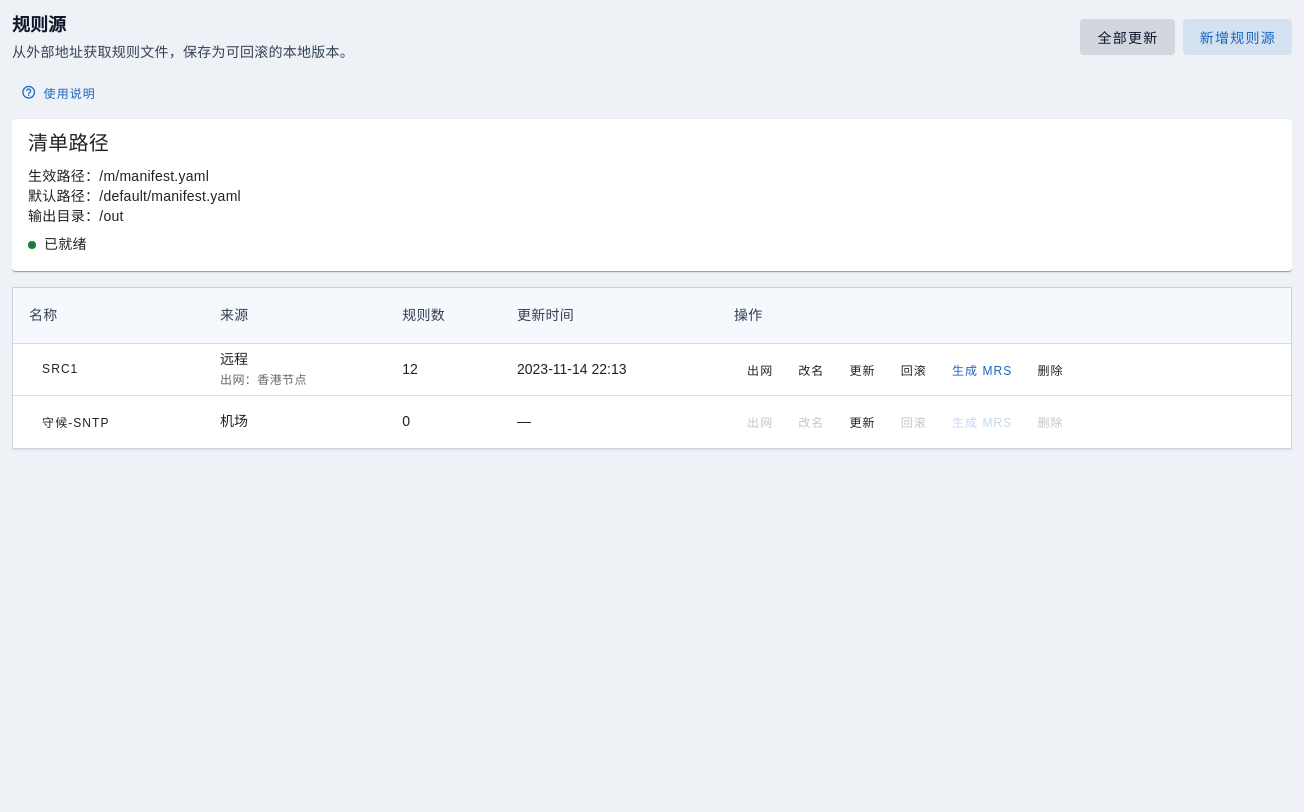
Scenario: RuleSourcesPage › 更新结果含 err 显示 update-error
Click the button with test id "update-all": coordinates (1127, 38) [1080, 20, 1175, 56]
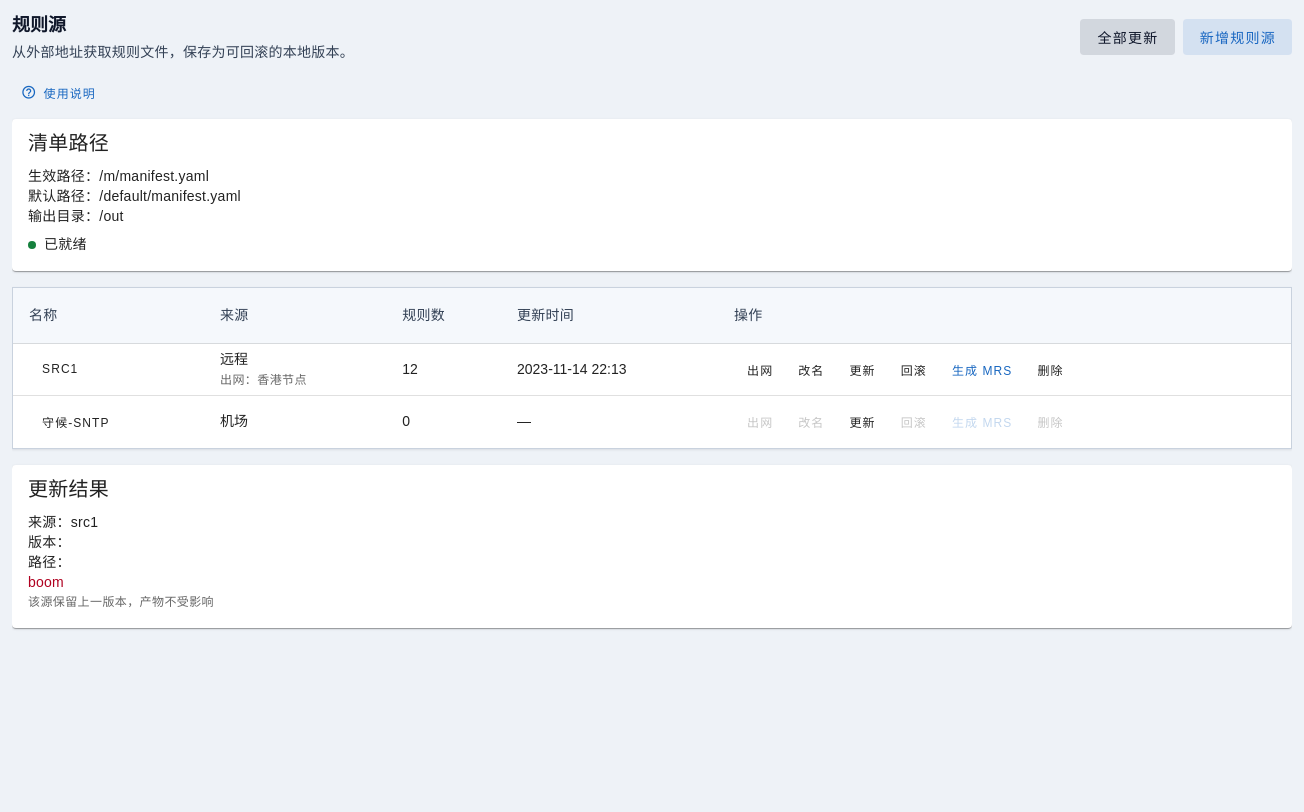
expect the text with test id "source-update-error" reads "boom": met, box [28, 574, 64, 590]
expect the text "该源保留上一版本，产物不受影响" is shown: met, box [28, 595, 214, 609]
